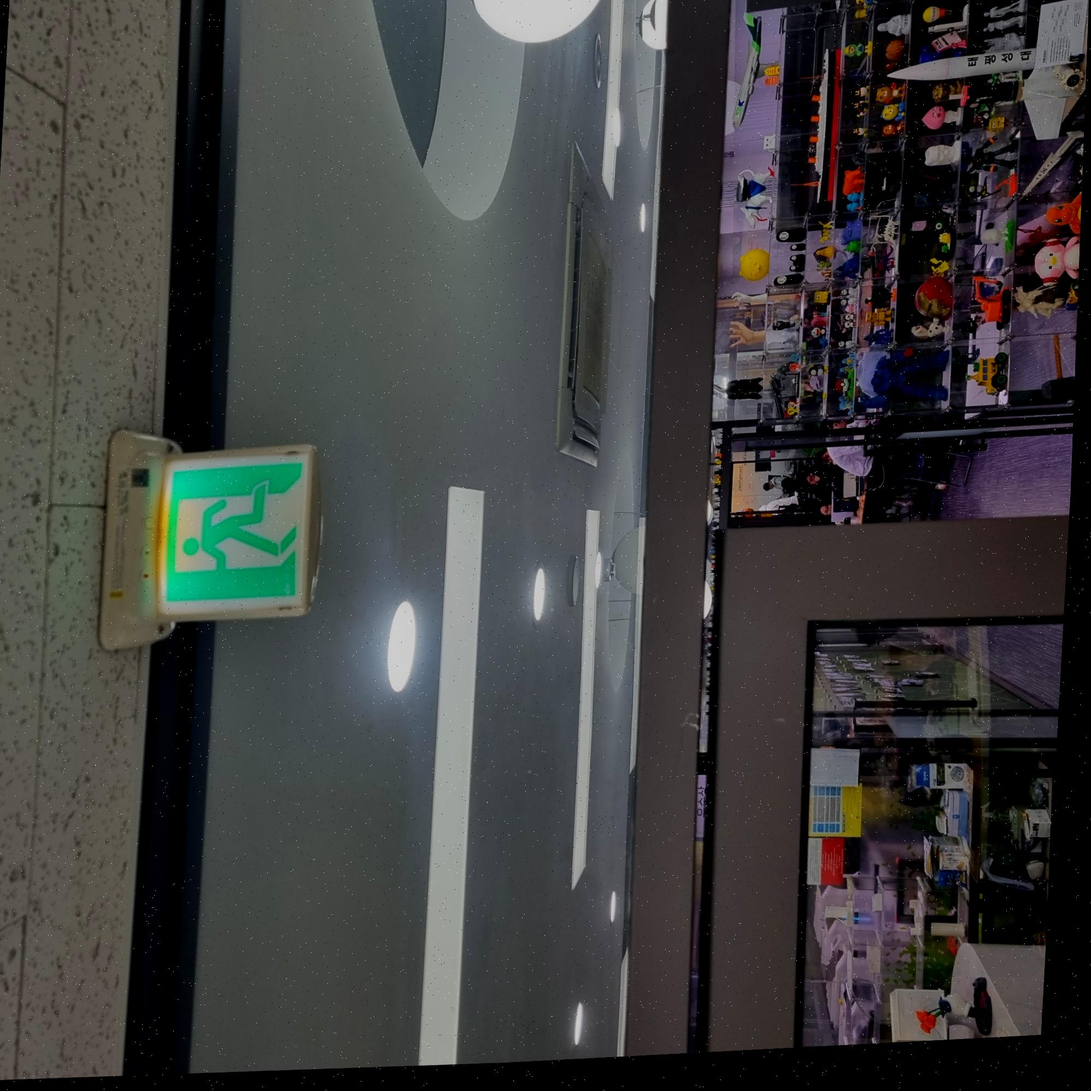emergency_exit: (97, 427, 322, 651), (155, 442, 320, 622)
